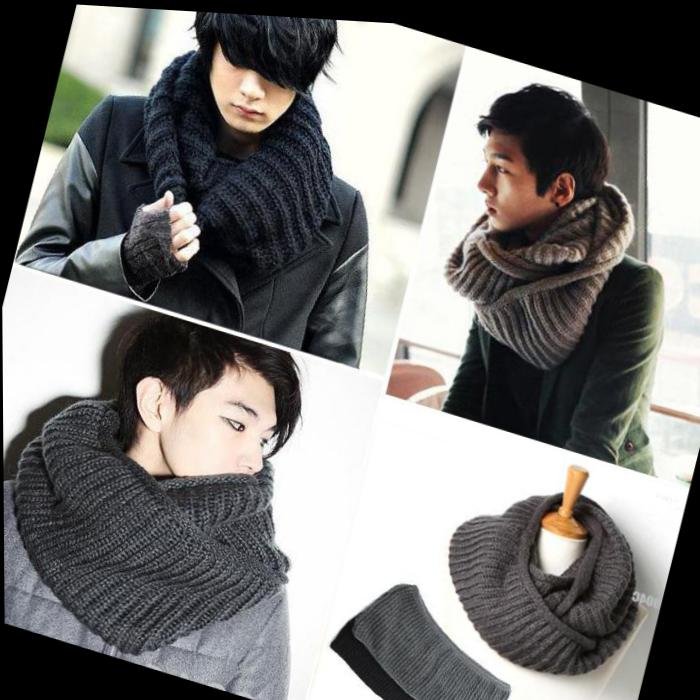NONE: (198, 26, 310, 145), (467, 131, 556, 239)
WRONG: (138, 377, 283, 527)
